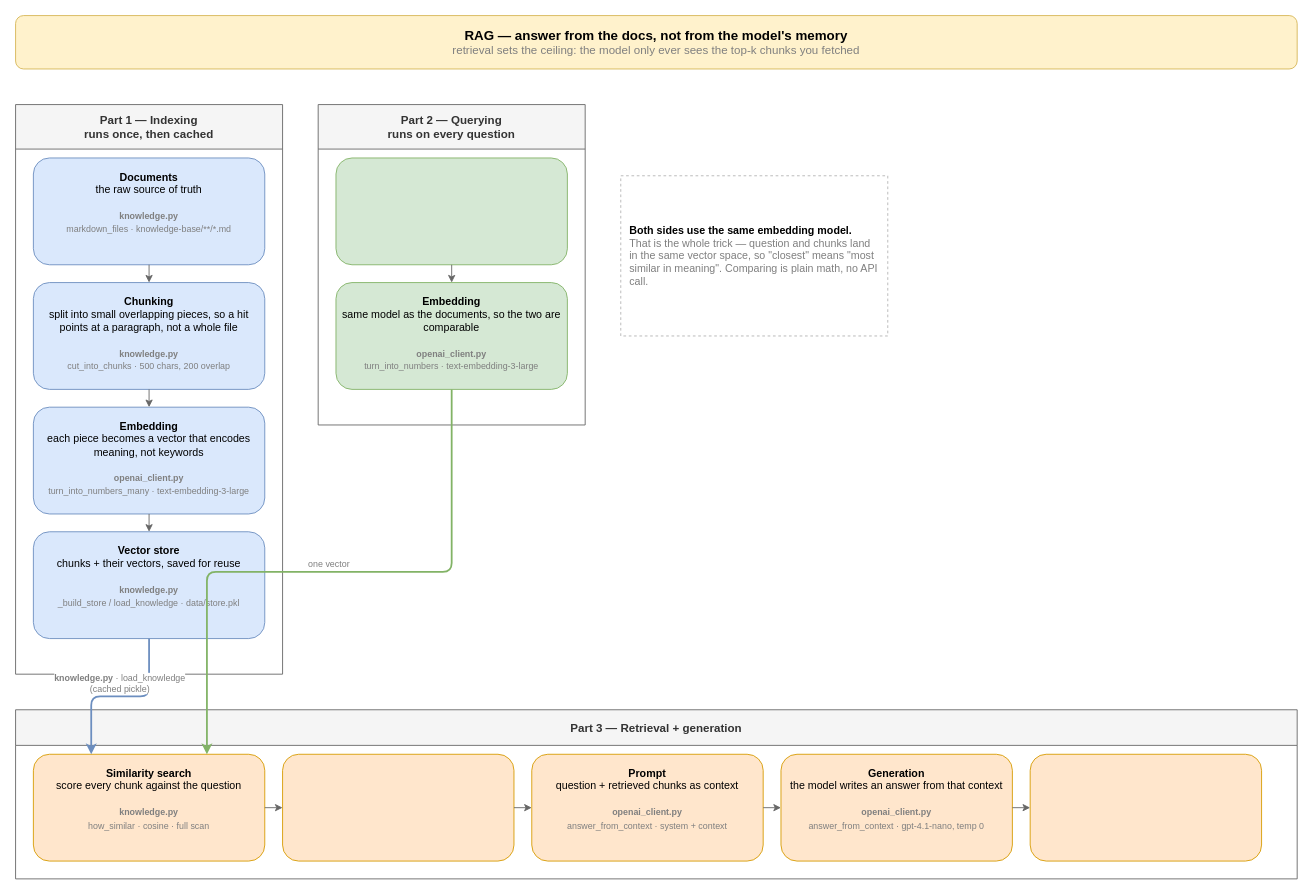
Image size: 1313x894. Some labels were removed from this diagram. Here are the shapes that lost their labels. From the top down, the centre of each, then its label:
point 451,211: Question what the user typed app.py chat · history[-1]
point 398,807: Retrieval keep only the closest chunks knowledge.py find_closest · top 10
point 1145,807: Answer reply plus the chunks it used app.py chat / format_context
